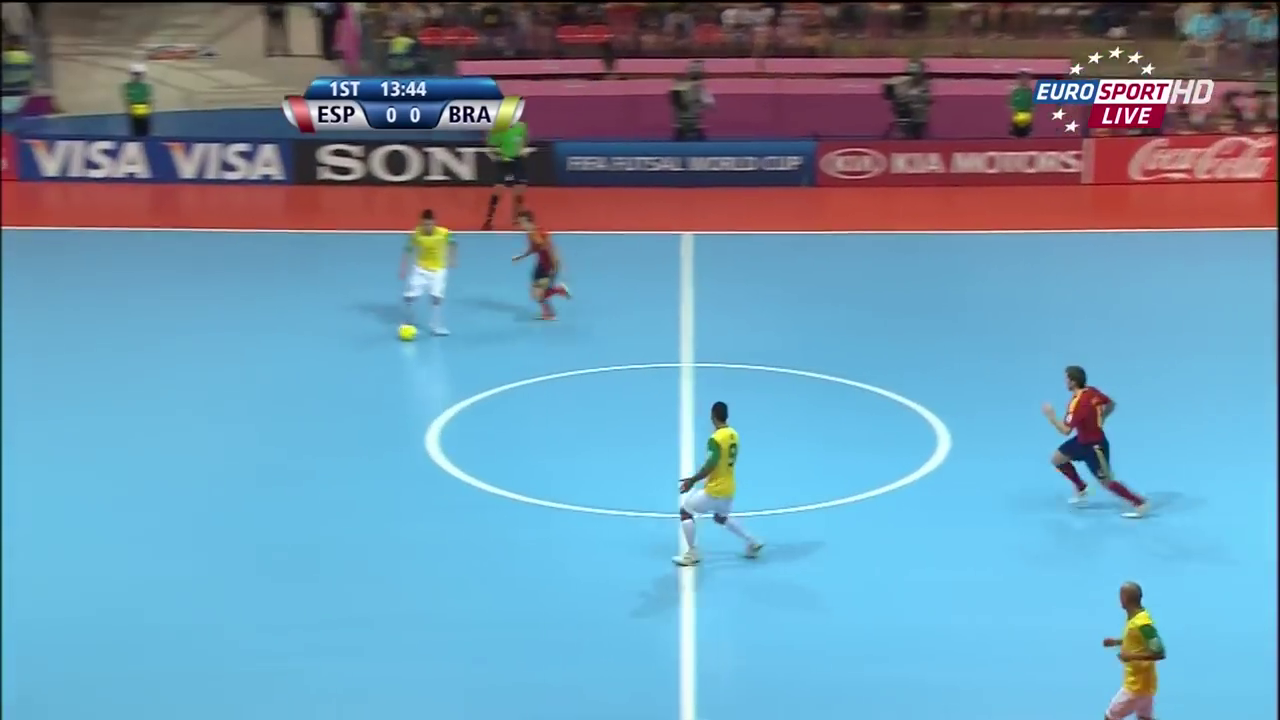ball: (393, 318, 423, 346)
person: (1036, 360, 1153, 520), (675, 394, 760, 567), (1086, 576, 1168, 720), (499, 207, 577, 327), (395, 206, 455, 345)
